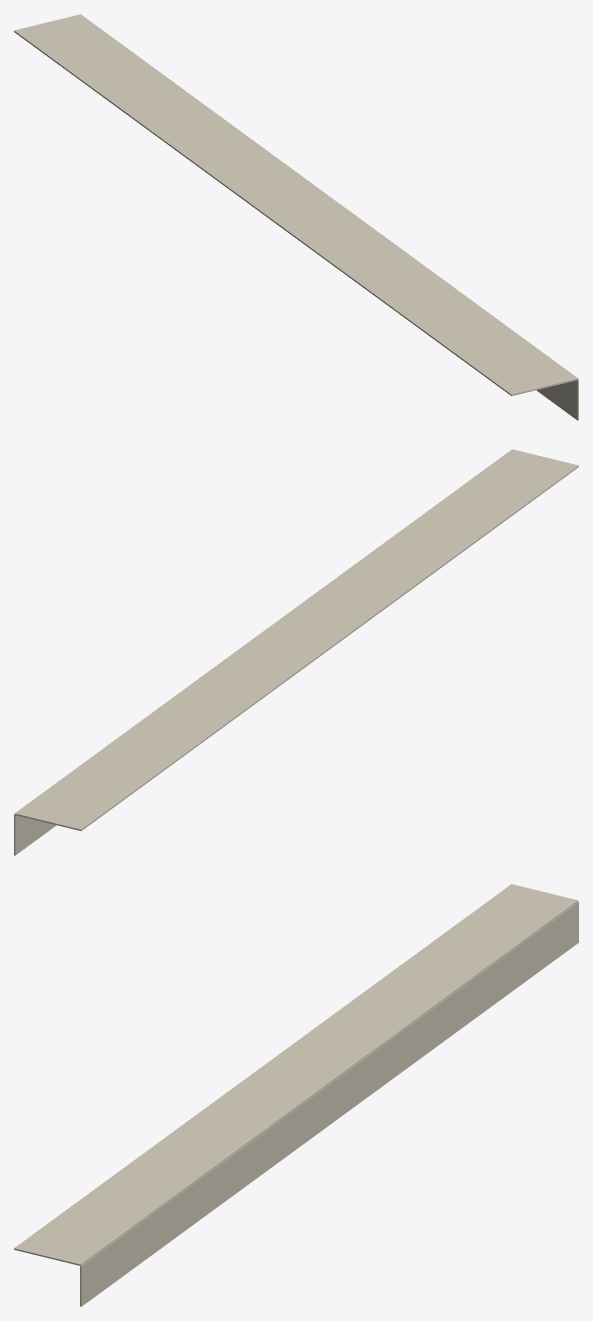
File: SERVICE_D09_PA_inner_00__shell.glb
3 renders of one model, top to bottom at view 1: azimuth 30°, elevation 25°; view 2: azimuth 150°, elevation 25°; view 3: azimuth 330°, elevation 25°, orthographic.
Parts seen in each view (by area): view 1: SERVICE_D09_PA_inner_00__shell__ivory_enamel; view 2: SERVICE_D09_PA_inner_00__shell__ivory_enamel; view 3: SERVICE_D09_PA_inner_00__shell__ivory_enamel.
Part boxes in pixels (box(x1,y1,x2,y2)): SERVICE_D09_PA_inner_00__shell__ivory_enamel: box(14, 14, 578, 420); SERVICE_D09_PA_inner_00__shell__ivory_enamel: box(14, 449, 578, 855); SERVICE_D09_PA_inner_00__shell__ivory_enamel: box(14, 884, 578, 1306).
Size of the model in its own units: 5.55 by 3.32 by 71.
Materials: 2 (1 with a texture image).
